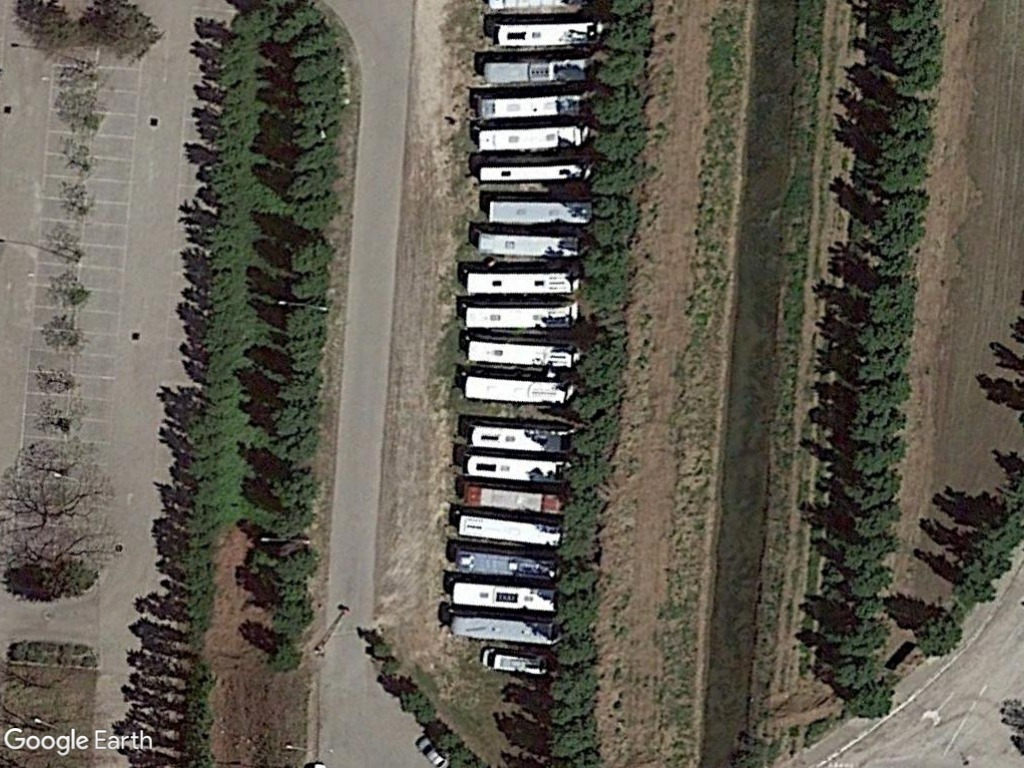bus: (451, 509, 567, 550), (474, 87, 596, 125), (482, 192, 600, 230), (462, 263, 584, 299), (448, 577, 560, 616), (464, 418, 581, 455), (470, 226, 586, 262), (463, 338, 579, 373), (489, 17, 609, 50), (480, 54, 600, 87), (463, 481, 567, 519), (463, 302, 582, 335), (477, 124, 593, 157), (460, 374, 575, 406), (463, 458, 576, 485), (447, 617, 559, 644), (479, 648, 555, 675)
car: (414, 733, 452, 768)
